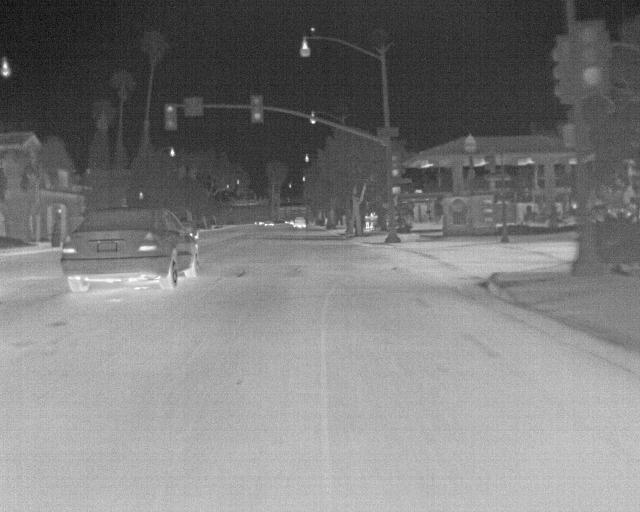car: (59, 206, 200, 295), (291, 214, 305, 228)
